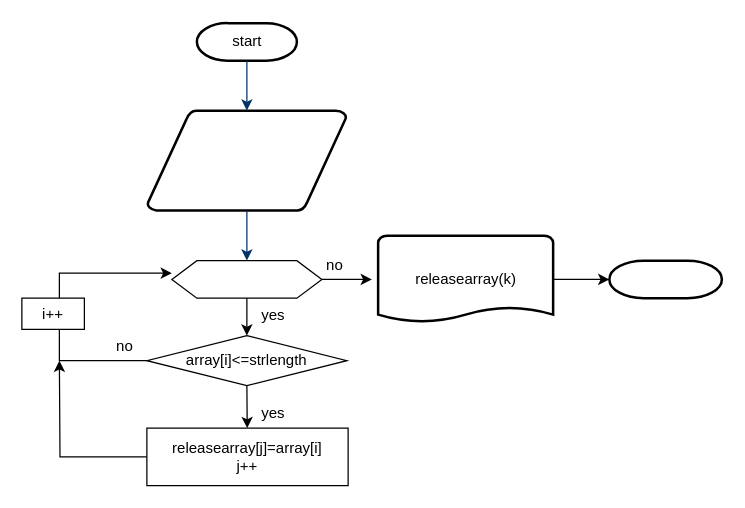
Some shapes in this 745 by 508 pixel diagram are drawn without their labels. Here are the shapes that lost their labels. From the top down, the box of each, then its label:
(146, 109, 347, 211): n, array (n) strlength k releasearray(k)
(171, 259, 322, 298): i=0, N-1, 1
(608, 259, 722, 299): end
